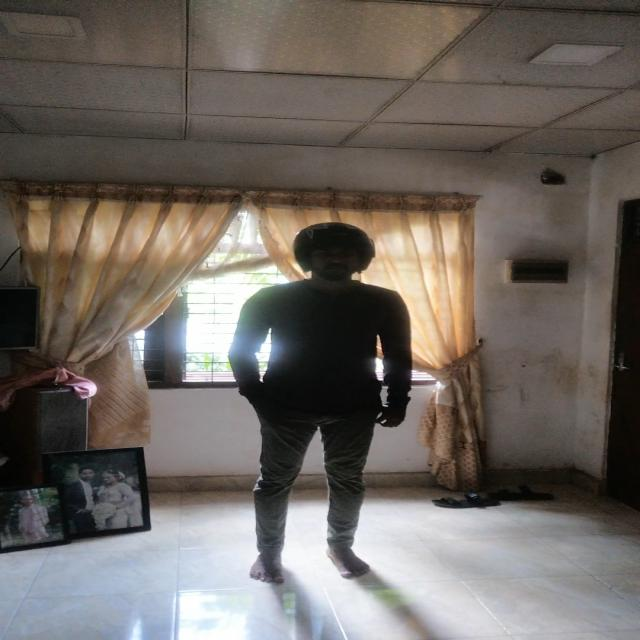Helmet_Wearer: (283, 222, 381, 283)
Person: (238, 219, 406, 575)
